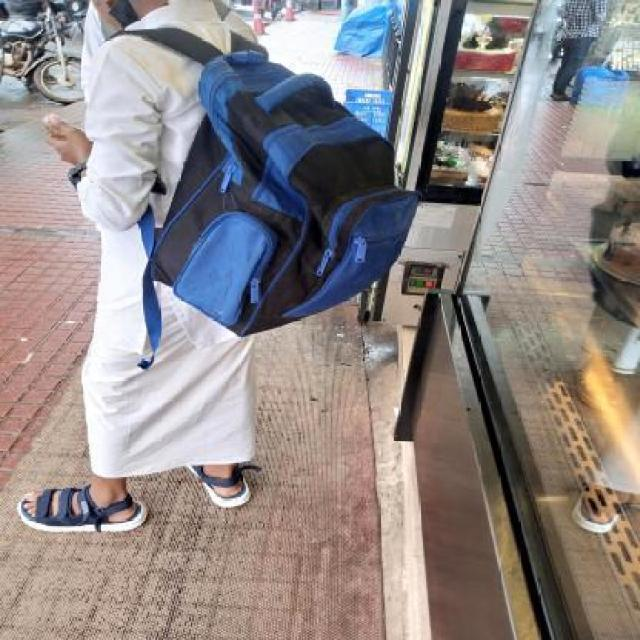backpack: (140, 42, 423, 340)
